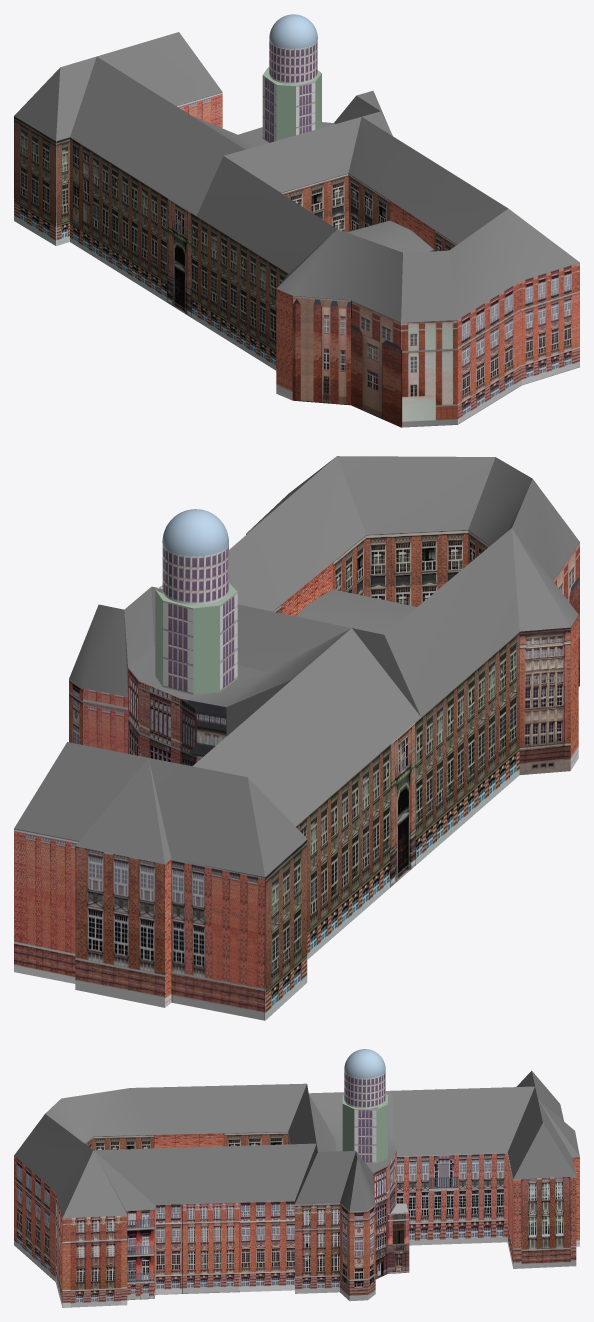
File: Beyer-Bau.gltf
The picture shows the model from 3 angles, top to bottom: view 1: azimuth 30°, elevation 25°; view 2: azimuth 150°, elevation 25°; view 3: azimuth 270°, elevation 25°; orthographic projection. The views are drawn at different scales.
Visible parts, largest first — view 1: Dach.1; view 2: Dach.1; view 3: Dach.1.
Boxes of the visible parts, <box> form: Dach.1: <box>14,14,579,427</box>; Dach.1: <box>14,456,579,1020</box>; Dach.1: <box>14,1049,579,1307</box>.
Bounding box in the file's own units: 53.42 × 46.06 × 112.
34 materials, 30 textured.
